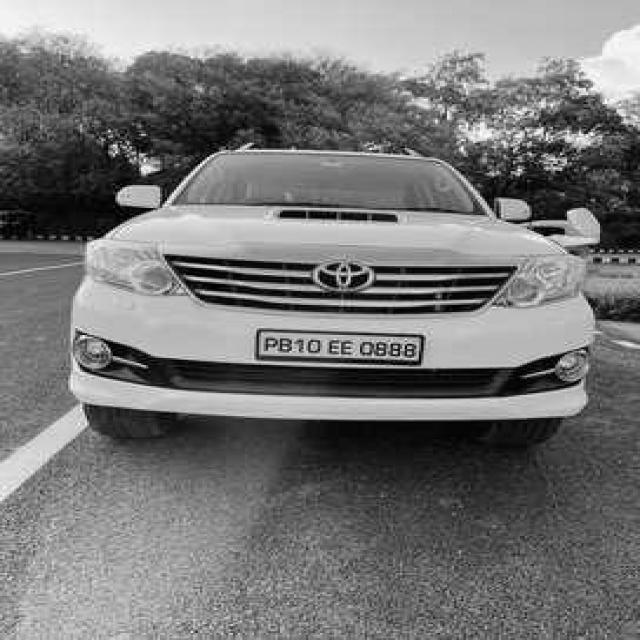car: (68, 143, 598, 467)
license-plate: (250, 324, 430, 367)
